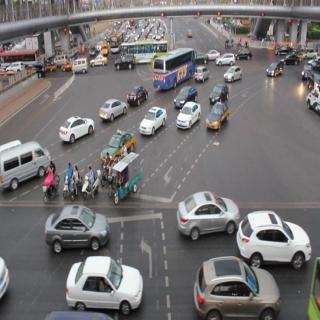BigCar: (151, 57, 192, 89)
Car: (193, 260, 282, 318), (238, 210, 312, 270), (67, 257, 142, 311), (43, 207, 110, 252), (175, 195, 238, 239), (0, 146, 48, 182), (57, 117, 93, 142), (139, 105, 166, 136), (96, 98, 129, 122), (177, 102, 200, 134), (208, 104, 228, 132), (126, 83, 148, 105), (210, 82, 230, 101), (223, 65, 243, 83), (114, 54, 133, 70), (71, 58, 88, 75), (267, 60, 282, 79), (195, 65, 208, 83), (217, 54, 236, 66), (284, 52, 299, 67), (238, 47, 252, 63), (91, 56, 107, 69)
